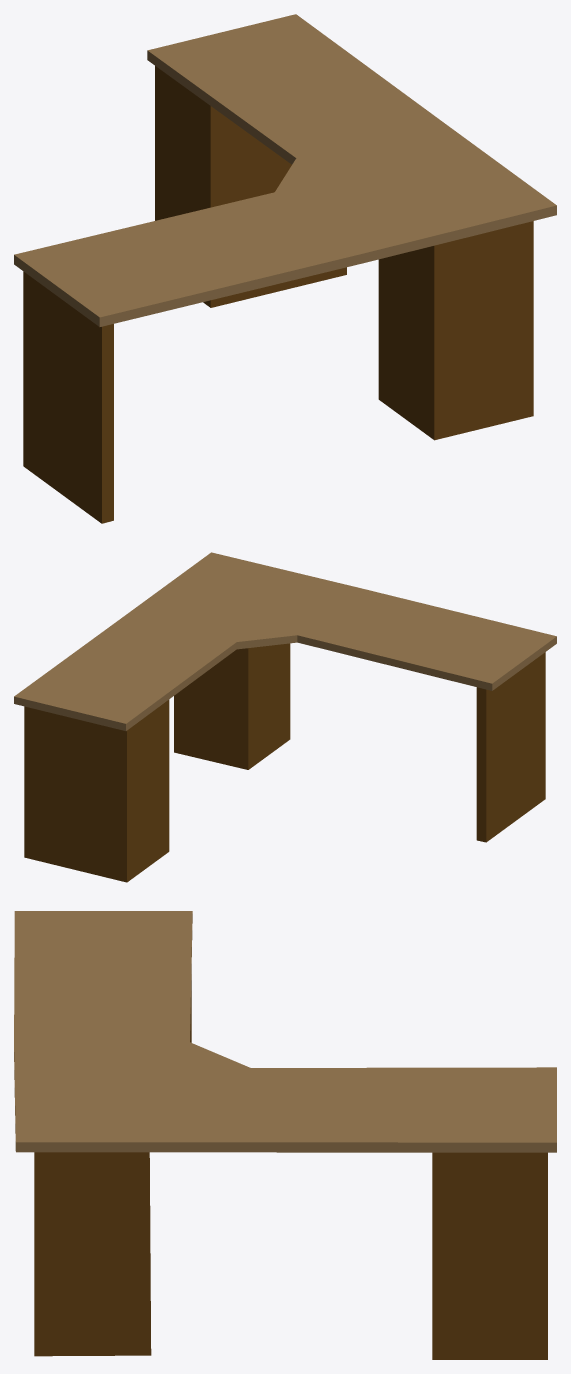
File: desk.fbx
3 renders of one model, top to bottom at view 1: azimuth 30°, elevation 25°; view 2: azimuth 150°, elevation 25°; view 3: azimuth 270°, elevation 25°, orthographic. The views are drawn at different scales.
Parts seen in each view (by area): view 1: Desk; view 2: Desk; view 3: Desk.
Part boxes in pixels (box(x1,y1,x2,y2)): Desk: box(14, 14, 556, 523); Desk: box(14, 552, 556, 882); Desk: box(14, 911, 556, 1359).
Size of the model in its own units: 130 by 57.95 by 128.
